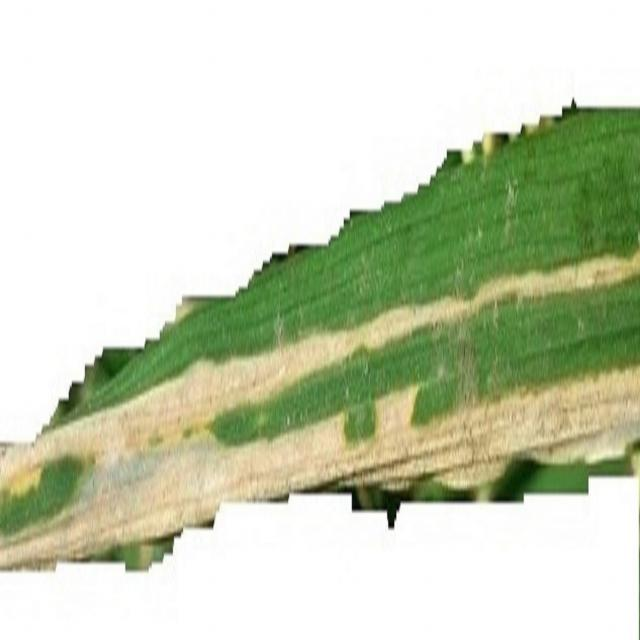leaf blight: (0, 224, 639, 569)
